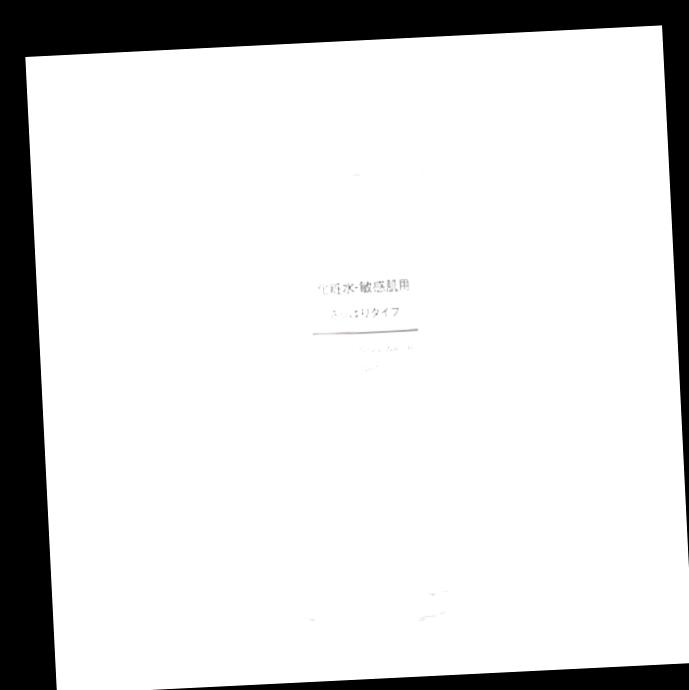cosmetic: (269, 93, 461, 625)
